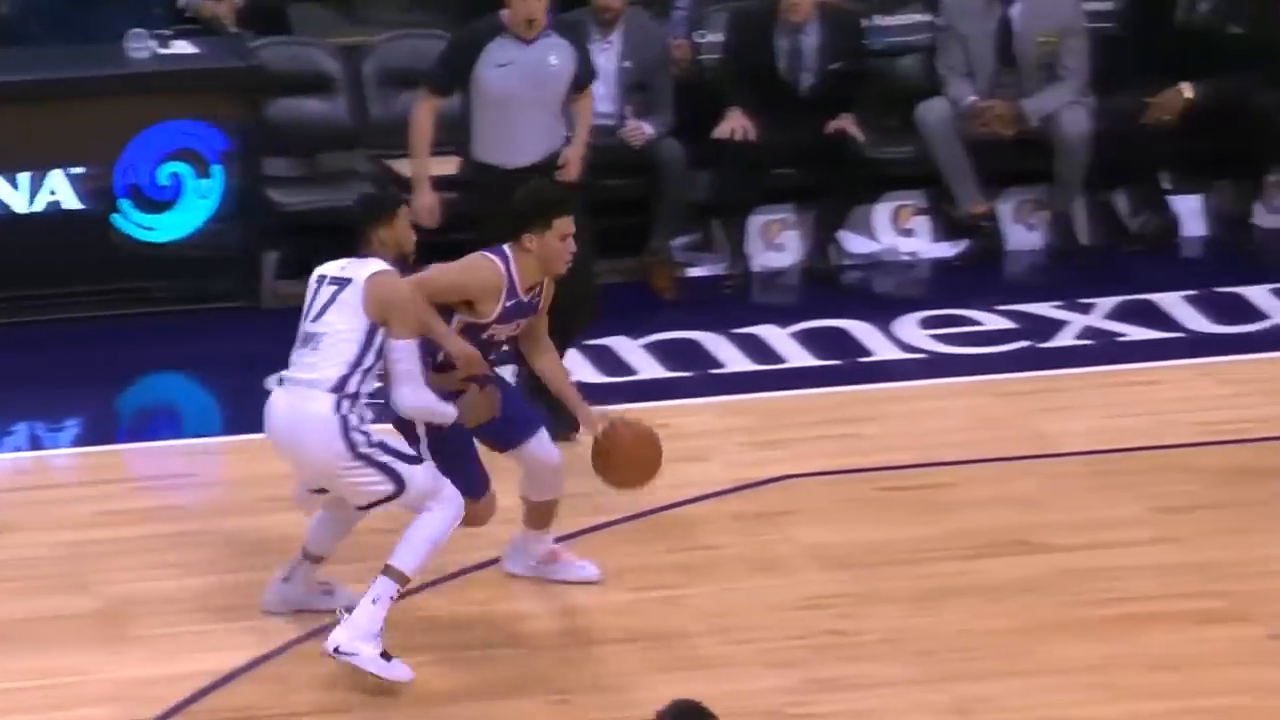ball: (592, 417, 663, 490)
